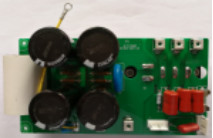capacitor: (75, 27, 120, 71), (77, 90, 120, 133), (29, 91, 71, 132), (28, 28, 71, 68)
